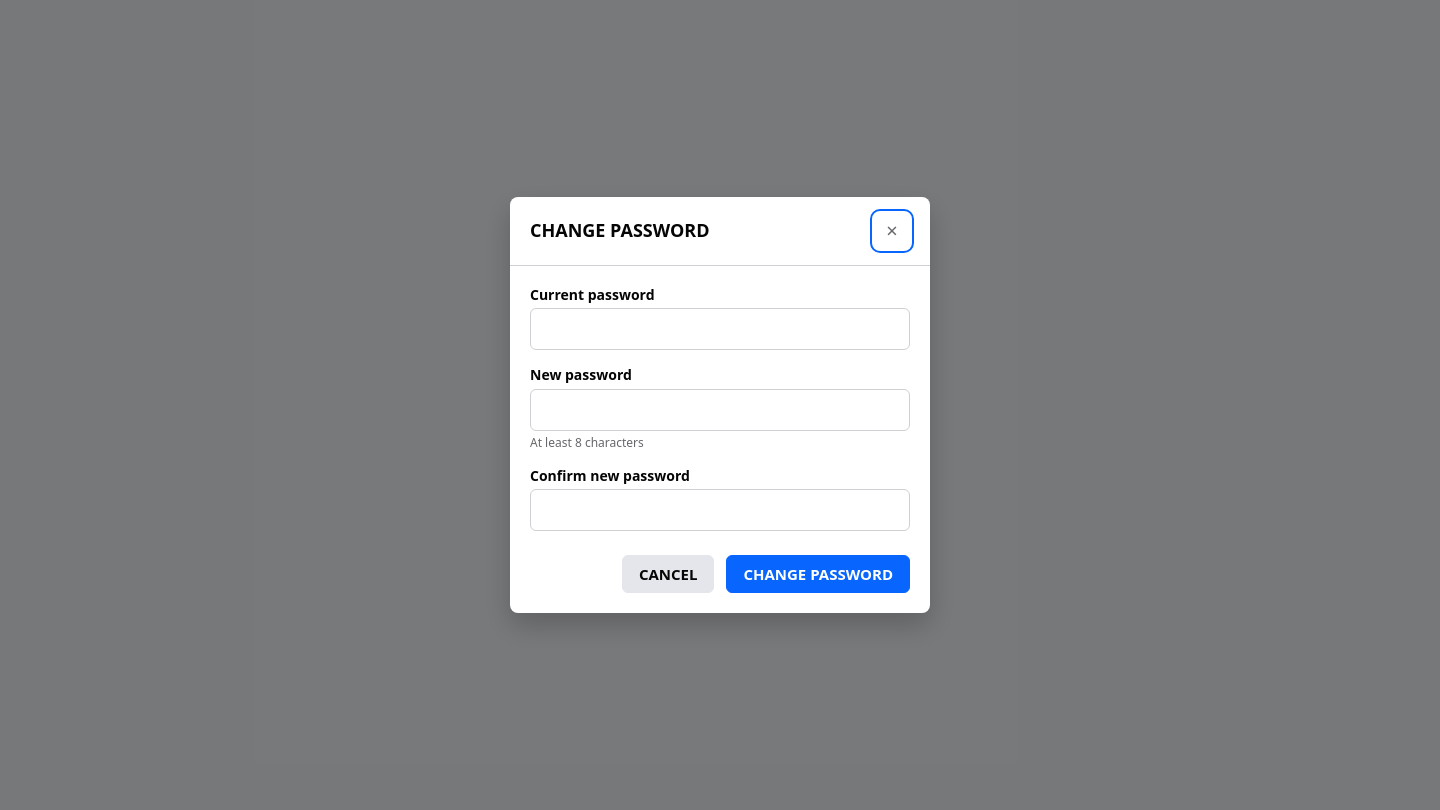
Test: ChangePasswordModal › rejects mismatched passwords
Type "old-pass-123" into the password field labelled "Current password" at (720, 329), box [530,308,910,350]
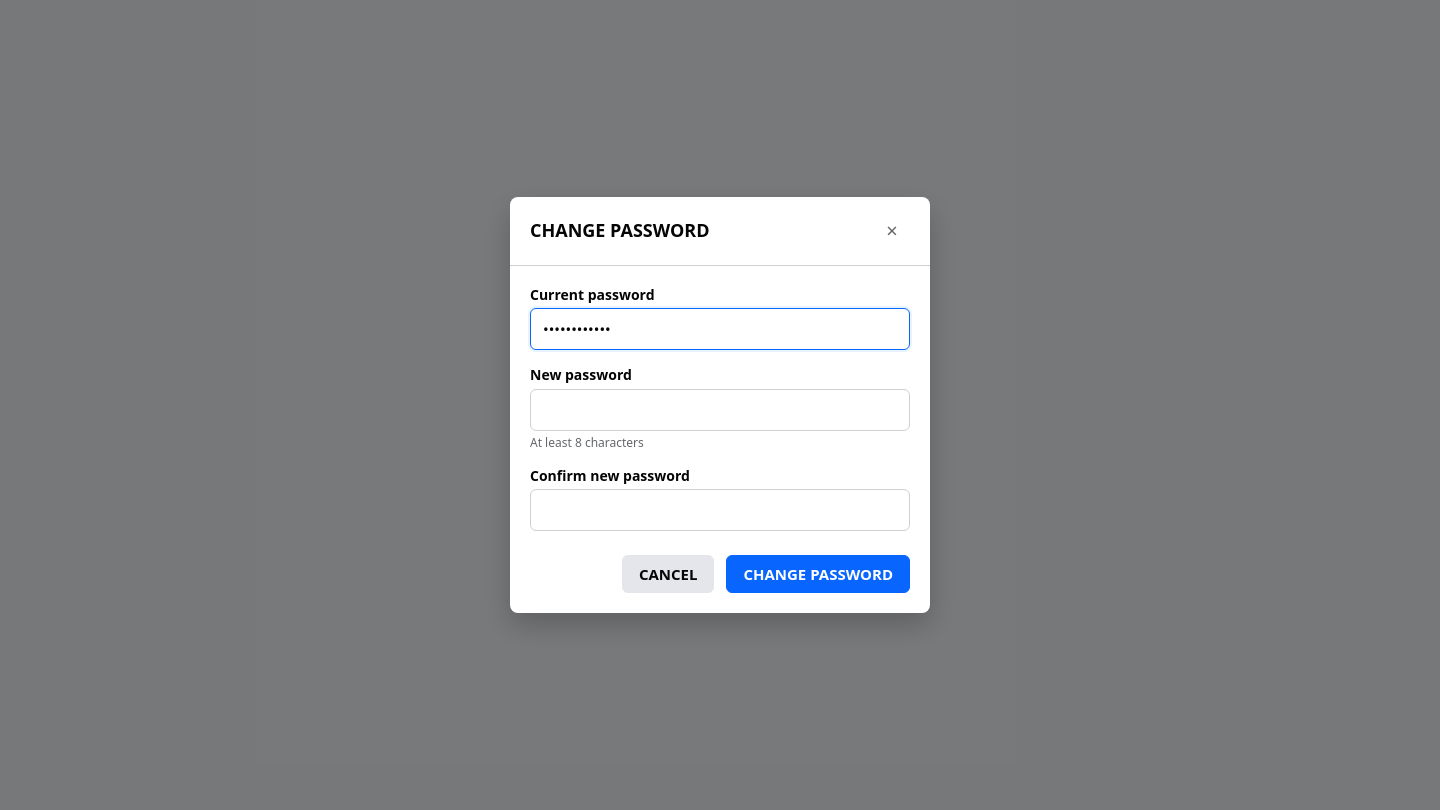
Type "new-pass-456" into the password field labelled "New password" at (720, 410), box [530,389,910,431]
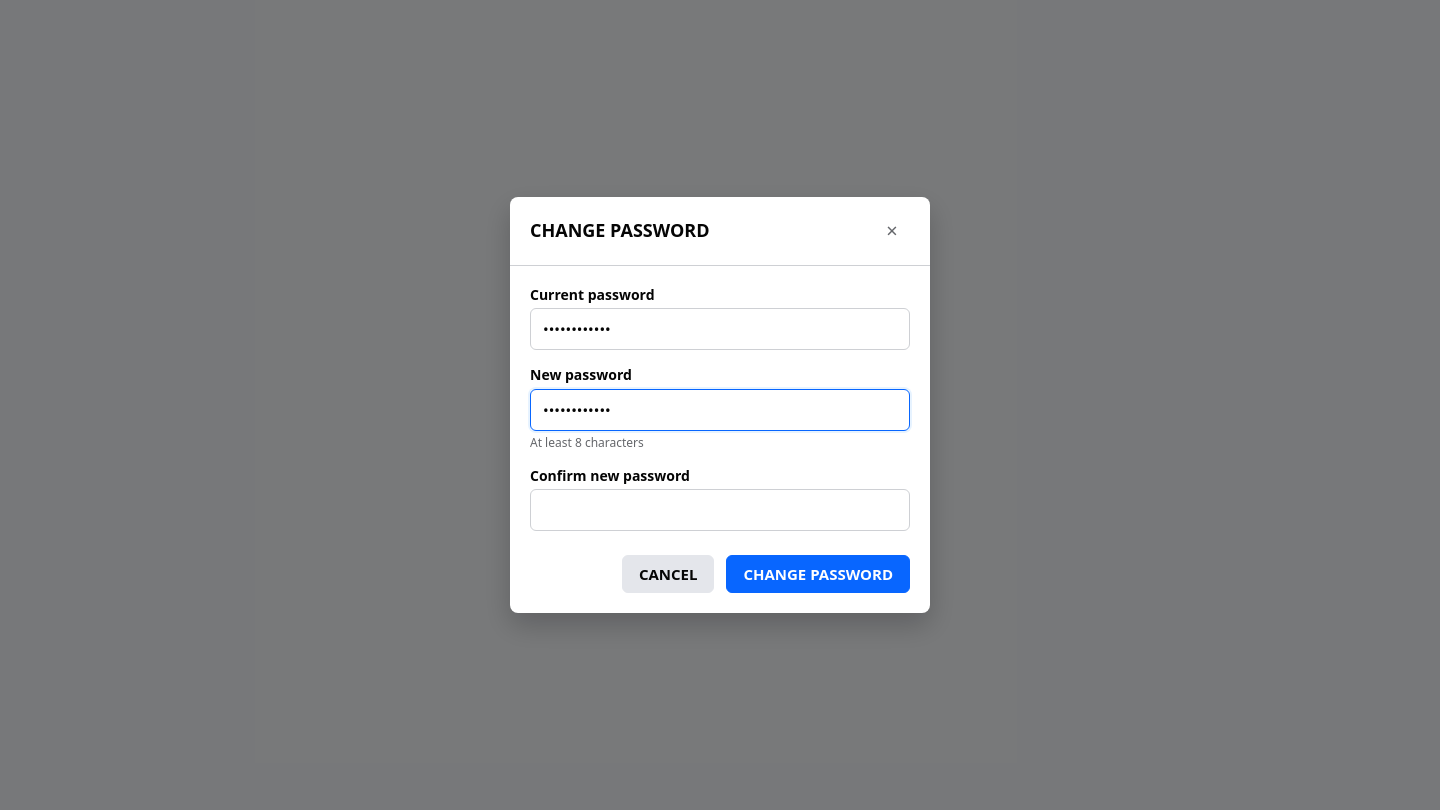
Type "different" into the password field labelled "Confirm new password" at (720, 510), box [530,490,910,532]
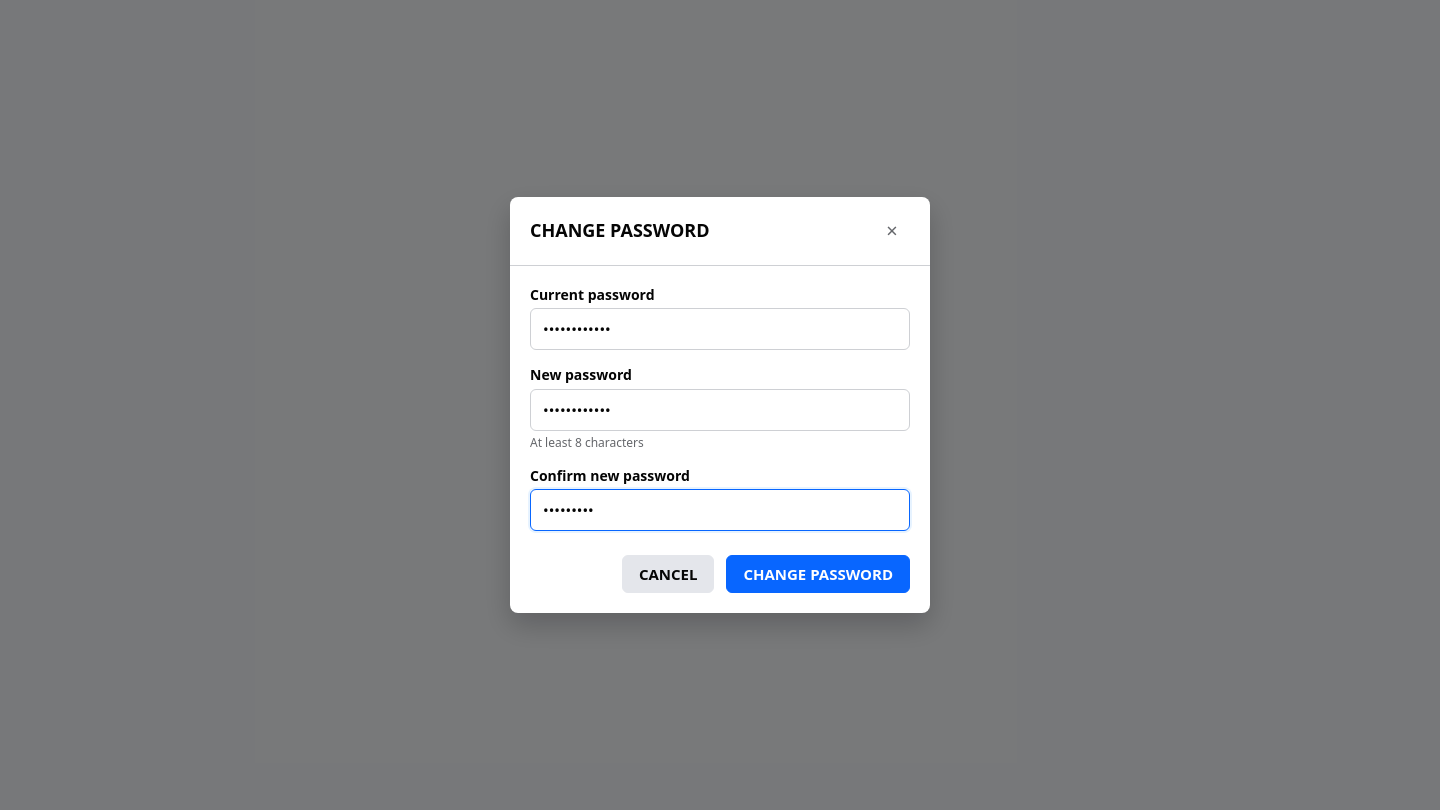
Click the button "Change password" at (818, 574), box [726,556,910,594]
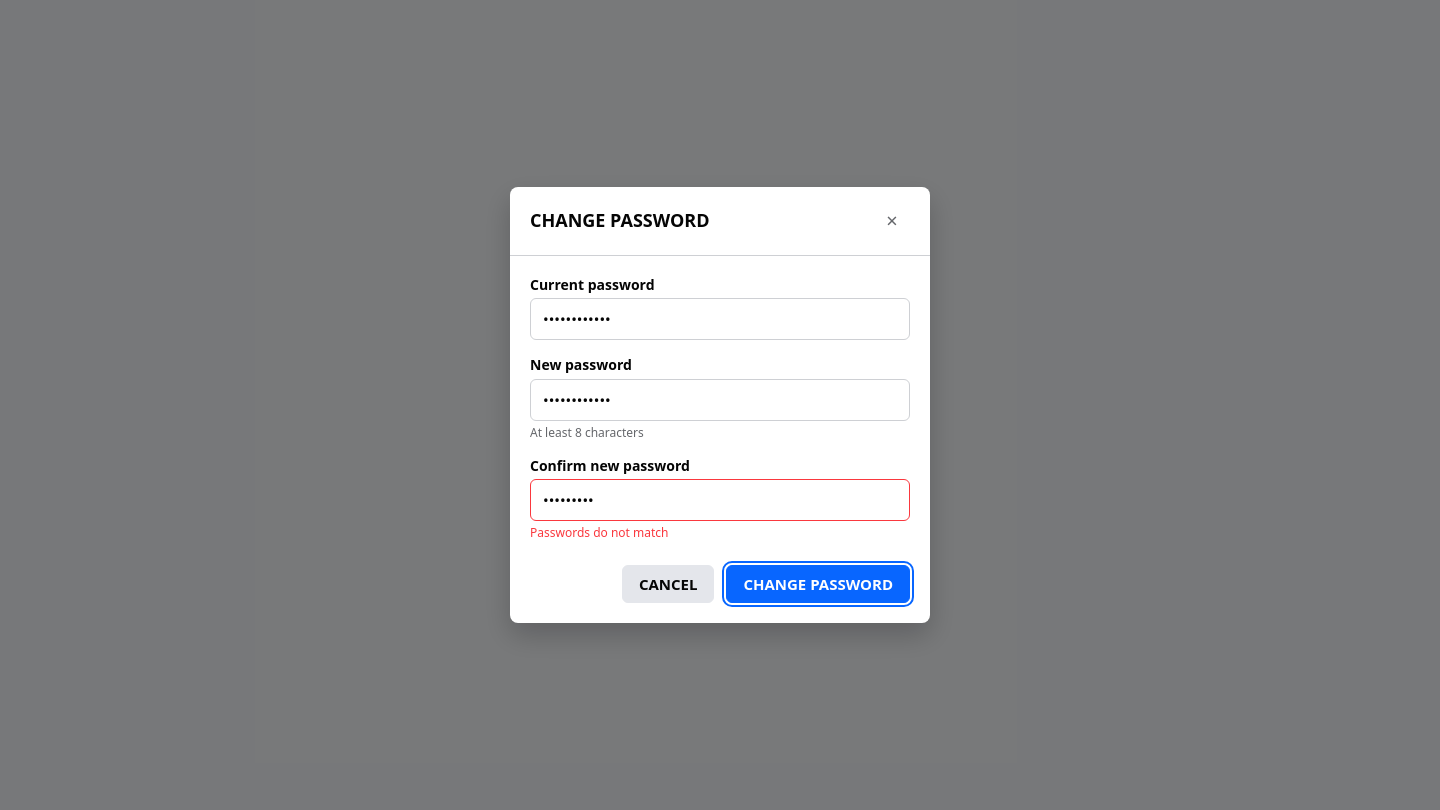
Expected: the text "Passwords do not match" is shown, [530,524,668,542]
